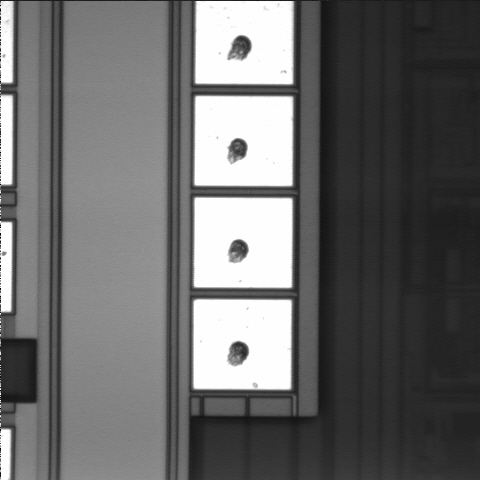pad: (193, 299, 292, 389), (195, 96, 293, 186), (194, 198, 292, 288)
